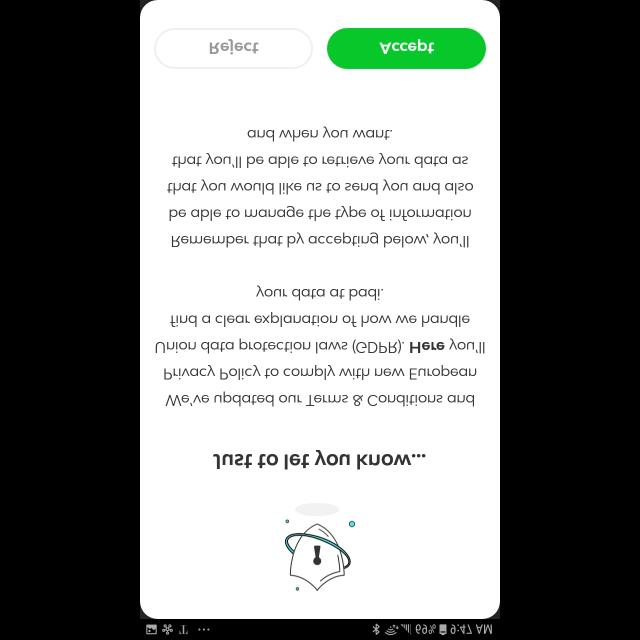image: (285, 502, 355, 590)
text: (156, 285, 484, 407), (167, 126, 473, 248), (214, 449, 426, 469)
textbutton: (154, 29, 314, 70), (326, 28, 486, 68)
uppertaskbar: (140, 618, 500, 640)
